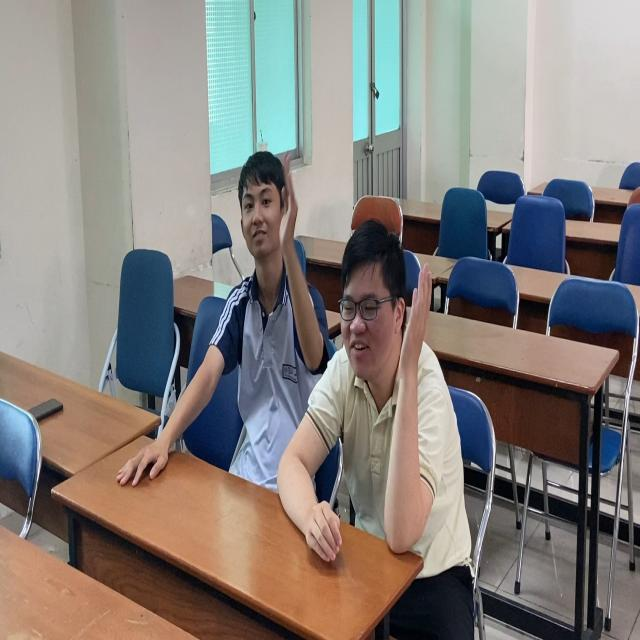raise_hand: (277, 219, 450, 578)
